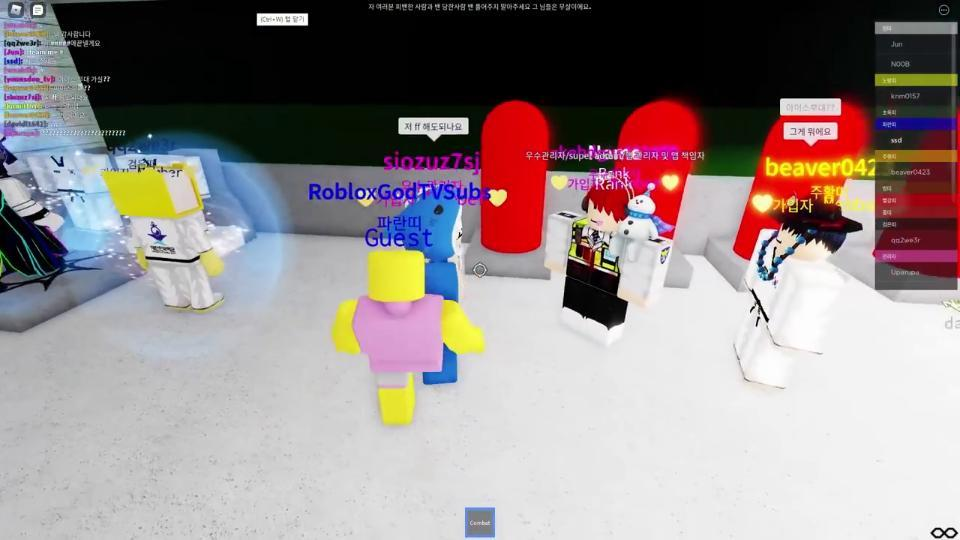Character: (334, 249, 483, 424), (733, 193, 864, 389), (545, 176, 673, 346), (101, 161, 226, 313), (378, 185, 464, 385)
